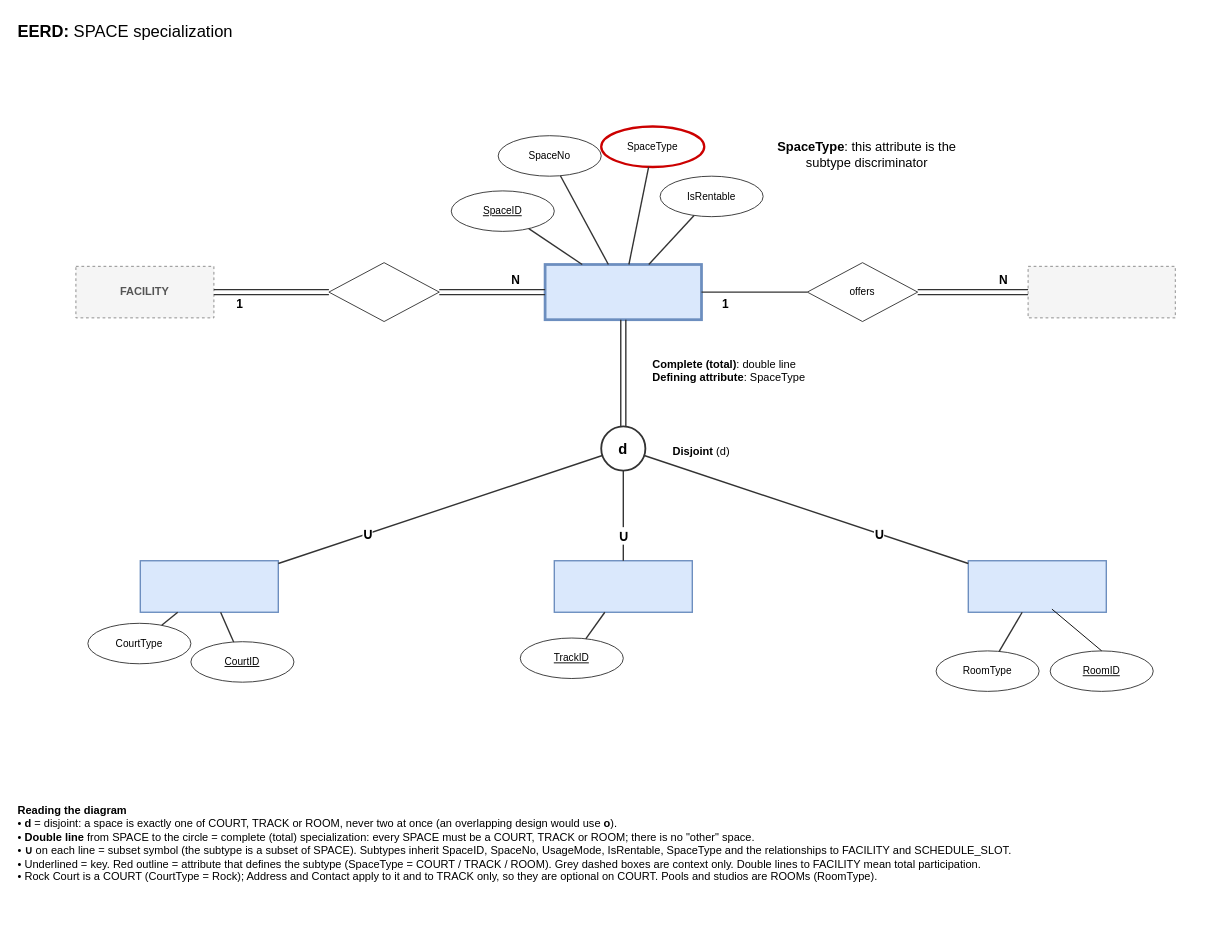
The diagram is 1227 pixels wide and 951 high, and some of its shapes have lost their labels. Each missing label, with the centre of its shape:
contains: pixel 383 292
COURT: pixel 209 586
ROOM: pixel 1037 586
SCHEDULE_SLOT: pixel 1101 291
SPACE: pixel 622 292
TRACK: pixel 623 586
